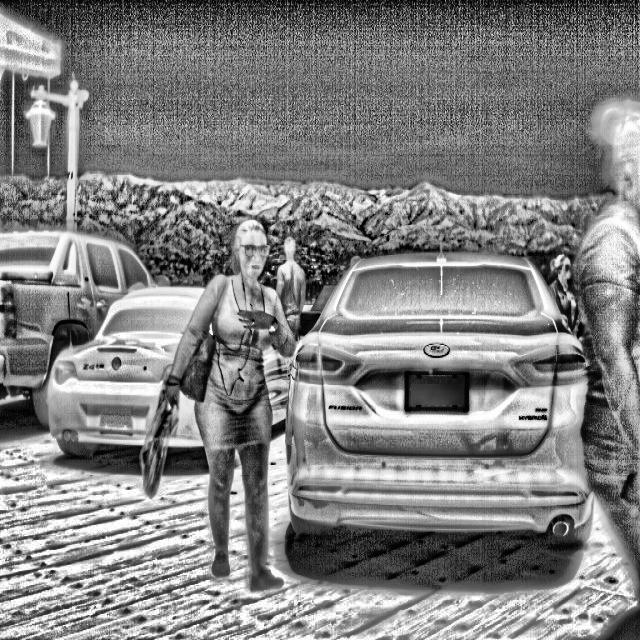car: (312, 232, 593, 550), (88, 261, 292, 453), (15, 212, 124, 390)
person and bycle: (142, 229, 298, 586), (571, 93, 640, 620)
